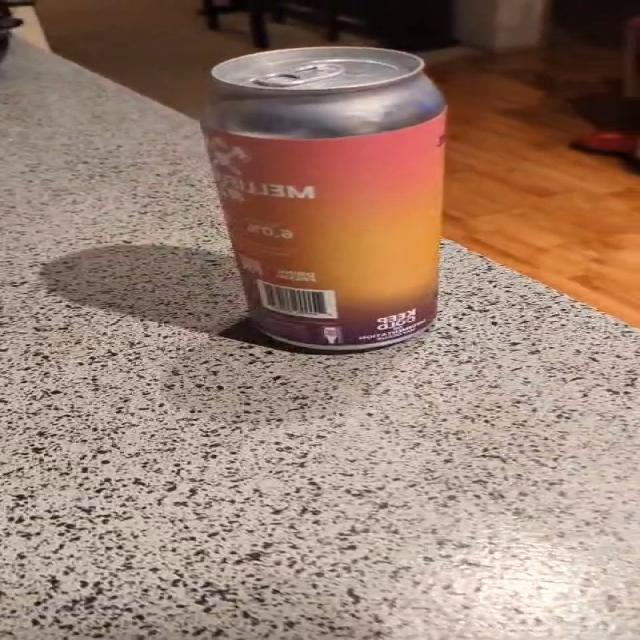metal: (202, 46, 444, 349)
